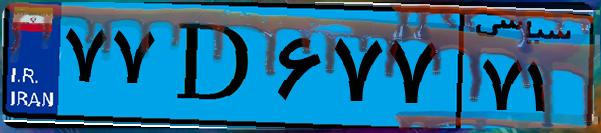1: (525, 38, 570, 115)
6: (270, 28, 330, 110)
7: (385, 28, 445, 110), (330, 28, 385, 110), (57, 26, 110, 100), (475, 38, 525, 113), (110, 28, 158, 98)
D: (158, 12, 270, 120)
